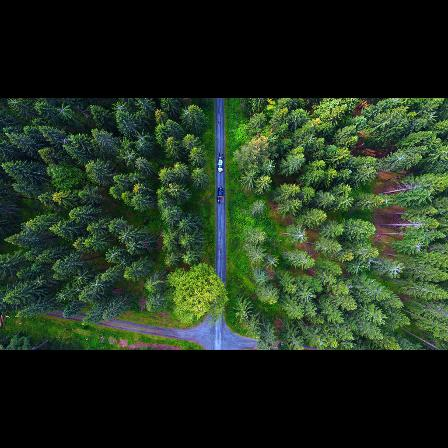Sick: (290, 220, 310, 249), (52, 101, 76, 123), (299, 285, 320, 305), (385, 261, 405, 280), (115, 226, 134, 245), (262, 252, 280, 270), (70, 268, 88, 285), (262, 157, 279, 172), (122, 148, 137, 164), (56, 290, 72, 304), (106, 248, 120, 262), (136, 140, 149, 150)
